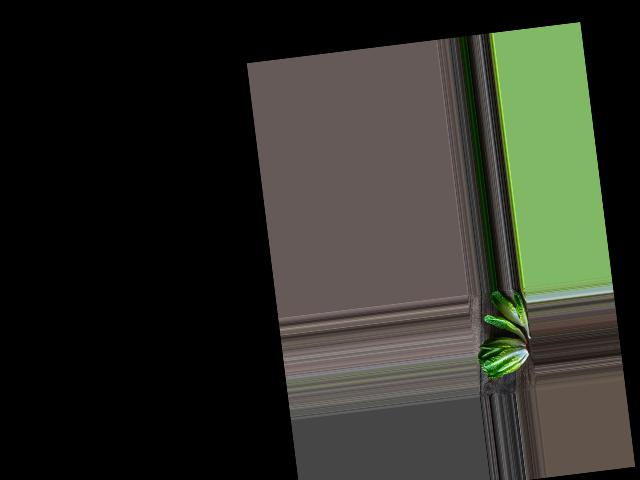lettuce: (476, 331, 530, 381)
